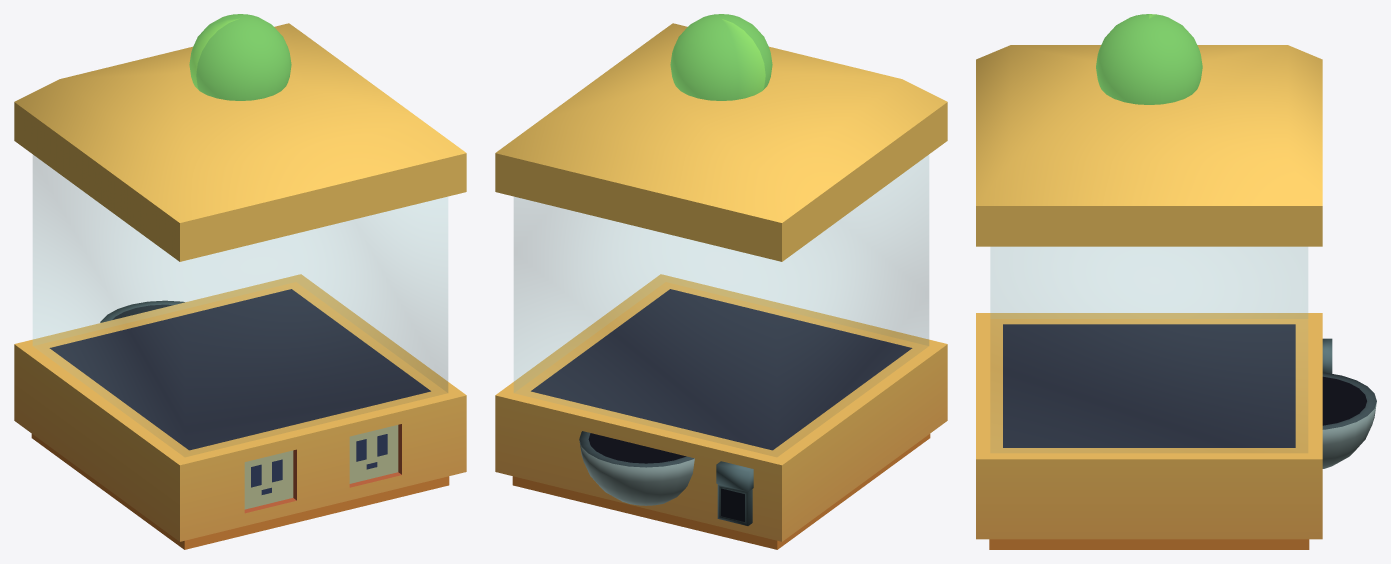
Rendered from depositor.glb.
3 views of the same model, side by side, from view 1: azimuth 30°, elevation 25°; view 2: azimuth 150°, elevation 25°; view 3: azimuth 270°, elevation 25° (orthographic). The views are drawn at different scales.
Visible parts, largest first — view 1: depositor; view 2: depositor; view 3: depositor.
Boxes of the visible parts, <box> form: depositor: <box>14,14,466,549</box>; depositor: <box>495,14,947,549</box>; depositor: <box>976,14,1376,549</box>.
Size of what is drawn, in the model's own units: 2.77 by 4.08 by 3.2.
Materials: 3 (3 with a texture image).
